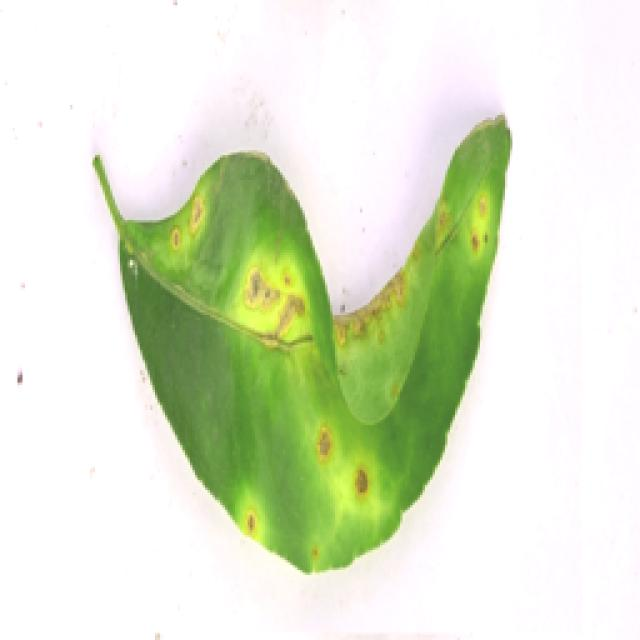canker: (91, 109, 544, 577)
